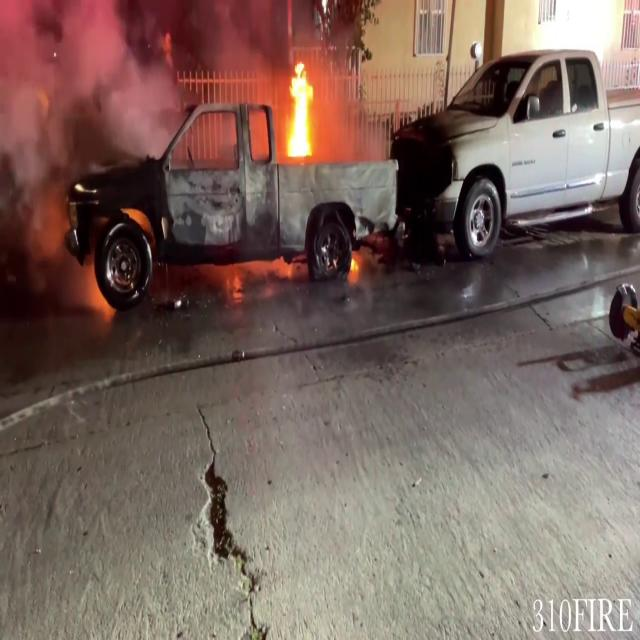Fire: (280, 55, 322, 161)
Smoke: (0, 0, 178, 179)
